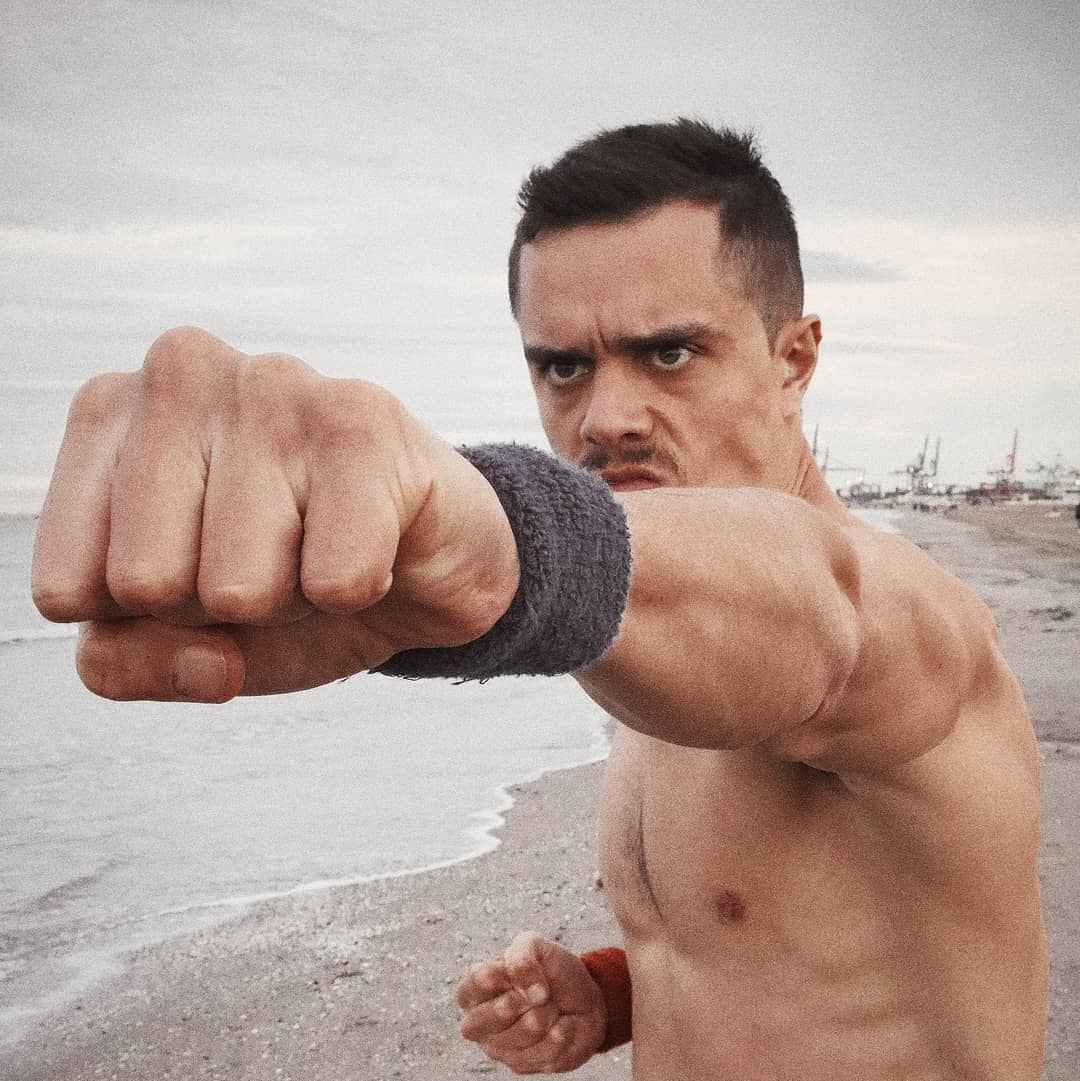hand: (68, 359, 486, 673)
